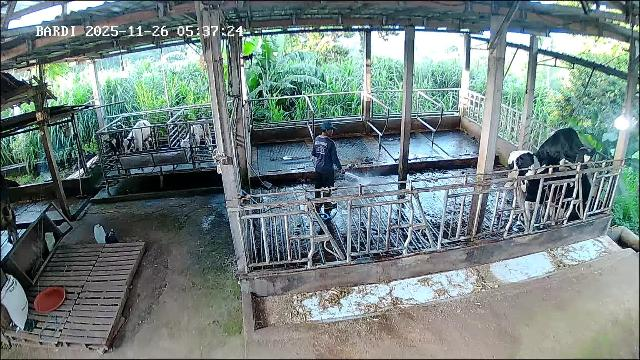mounting: (535, 128, 594, 176)
